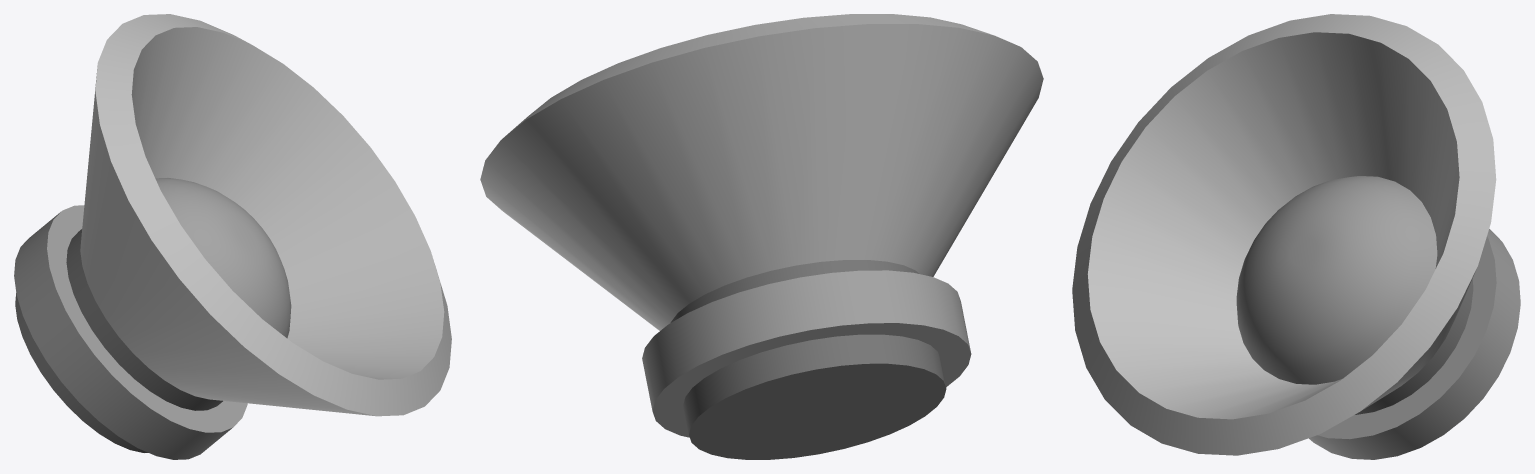
Rendered from speaker_low_volume.gltf.
3 views of the same model, side by side, from view 1: azimuth 30°, elevation 25°; view 2: azimuth 150°, elevation 25°; view 3: azimuth 270°, elevation 25° (orthographic). The views are drawn at different scales.
Visible parts, largest first — view 1: Circle.2539; view 2: Circle.2539; view 3: Circle.2539.
Boxes of the visible parts, x1,y1,x2,y2 form: Circle.2539: (14, 14, 451, 459); Circle.2539: (480, 14, 1043, 459); Circle.2539: (1072, 14, 1520, 459).
Bounding box in the file's own units: 2.11 × 2.05 × 2.11.
Materials: 1 (1 with a texture image).
